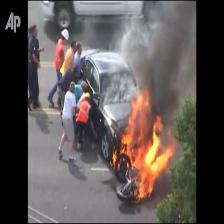fire: (112, 86, 177, 200)
nofire: (54, 36, 75, 80), (74, 94, 92, 129)
smoke: (125, 0, 195, 111)
